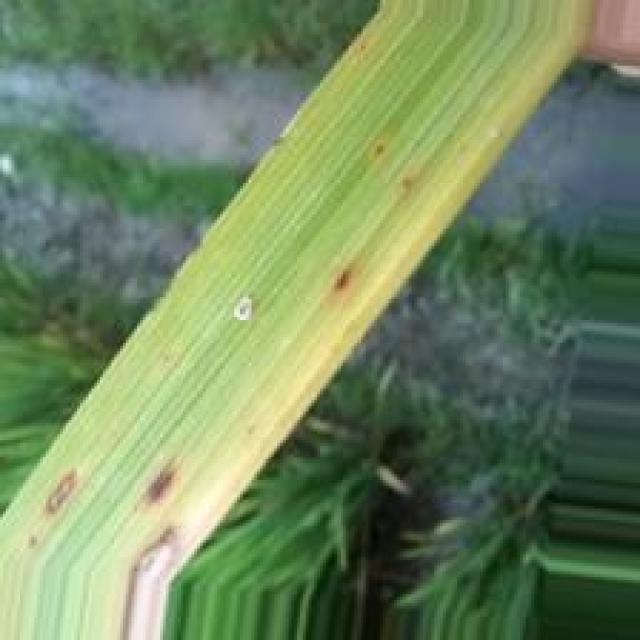Brown_Spot: (122, 518, 190, 640), (135, 448, 183, 514), (37, 464, 84, 522), (329, 261, 358, 296), (369, 135, 392, 161), (401, 170, 412, 198), (28, 534, 42, 550)
